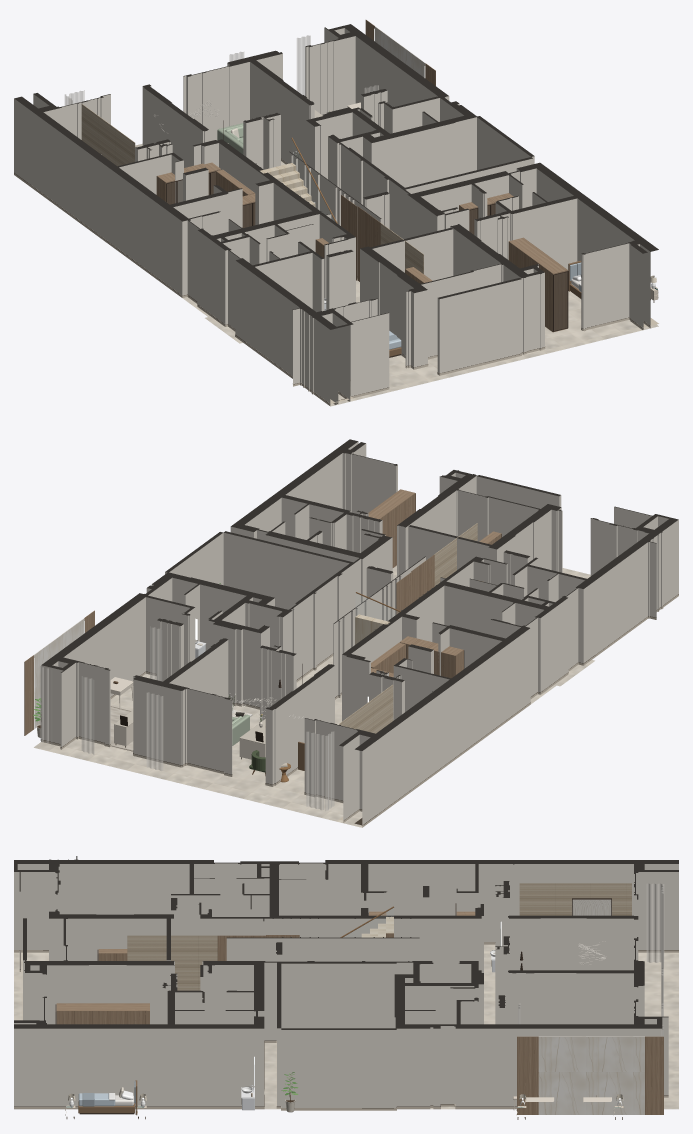
The model's file is ff_house.glb.
The picture shows the model from 3 angles, top to bottom: view 1: azimuth 30°, elevation 25°; view 2: azimuth 150°, elevation 25°; view 3: azimuth 270°, elevation 25°; orthographic projection. The views are drawn at different scales.
Visible parts, largest first — view 1: MeshStandardMaterial_14, MeshStandardMaterial_15, MeshStandardMaterial_7, MeshStandardMaterial_1, MeshStandardMaterial_5, MeshStandardMaterial_16, MeshStandardMaterial_87, MeshStandardMaterial_104, MeshStandardMaterial_6, MeshStandardMaterial_12, MeshPhysicalMaterial_3; view 2: MeshStandardMaterial_14, MeshStandardMaterial_15, MeshStandardMaterial_1, MeshStandardMaterial_104, MeshStandardMaterial_7, MeshStandardMaterial_5, MeshStandardMaterial_16, MeshStandardMaterial_6, MeshStandardMaterial_61, MeshPhysicalMaterial_3; view 3: MeshStandardMaterial_14, MeshStandardMaterial_15, MeshStandardMaterial_6, MeshStandardMaterial_7, MeshStandardMaterial_5, MeshStandardMaterial_1, MeshStandardMaterial_16, MeshStandardMaterial_104, MeshPhysicalMaterial_3, MeshStandardMaterial_91, MeshStandardMaterial_18.
Part boxes in pixels (box(x1,y1,x2,y2)): MeshStandardMaterial_14: box(14, 27, 650, 404); MeshStandardMaterial_15: box(14, 24, 658, 329); MeshStandardMaterial_7: box(156, 20, 567, 332); MeshStandardMaterial_1: box(135, 143, 658, 406); MeshStandardMaterial_5: box(81, 104, 423, 273); MeshStandardMaterial_16: box(14, 159, 658, 405); MeshStandardMaterial_87: box(166, 172, 567, 330); MeshStandardMaterial_104: box(64, 35, 378, 105); MeshStandardMaterial_6: box(374, 26, 425, 77); MeshStandardMaterial_12: box(260, 163, 315, 207); MeshPhysicalMaterial_3: box(292, 141, 333, 219); MeshStandardMaterial_14: box(41, 441, 678, 824); MeshStandardMaterial_15: box(41, 439, 678, 750); MeshStandardMaterial_1: box(34, 565, 594, 827); MeshStandardMaterial_104: box(40, 626, 334, 810); MeshStandardMaterial_7: box(24, 489, 501, 735); MeshStandardMaterial_5: box(339, 523, 477, 733); MeshStandardMaterial_16: box(41, 594, 678, 827); MeshStandardMaterial_6: box(34, 618, 252, 728); MeshStandardMaterial_61: box(110, 677, 265, 759); MeshPhysicalMaterial_3: box(356, 594, 398, 620); MeshStandardMaterial_14: box(14, 863, 678, 1107); MeshStandardMaterial_15: box(14, 856, 678, 1029); MeshStandardMaterial_6: box(538, 1036, 644, 1114); MeshStandardMaterial_7: box(56, 911, 663, 1114); MeshStandardMaterial_5: box(127, 883, 631, 990); MeshStandardMaterial_1: box(14, 944, 678, 1109); MeshStandardMaterial_16: box(14, 942, 678, 1110); MeshStandardMaterial_104: box(518, 883, 664, 1036); MeshPhysicalMaterial_3: box(345, 908, 393, 936); MeshStandardMaterial_91: box(572, 899, 611, 915); MeshStandardMaterial_18: box(78, 1080, 137, 1114).
Bounding box in the file's own units: 14.8 × 4 × 22.5.
104 materials, 16 textured.
